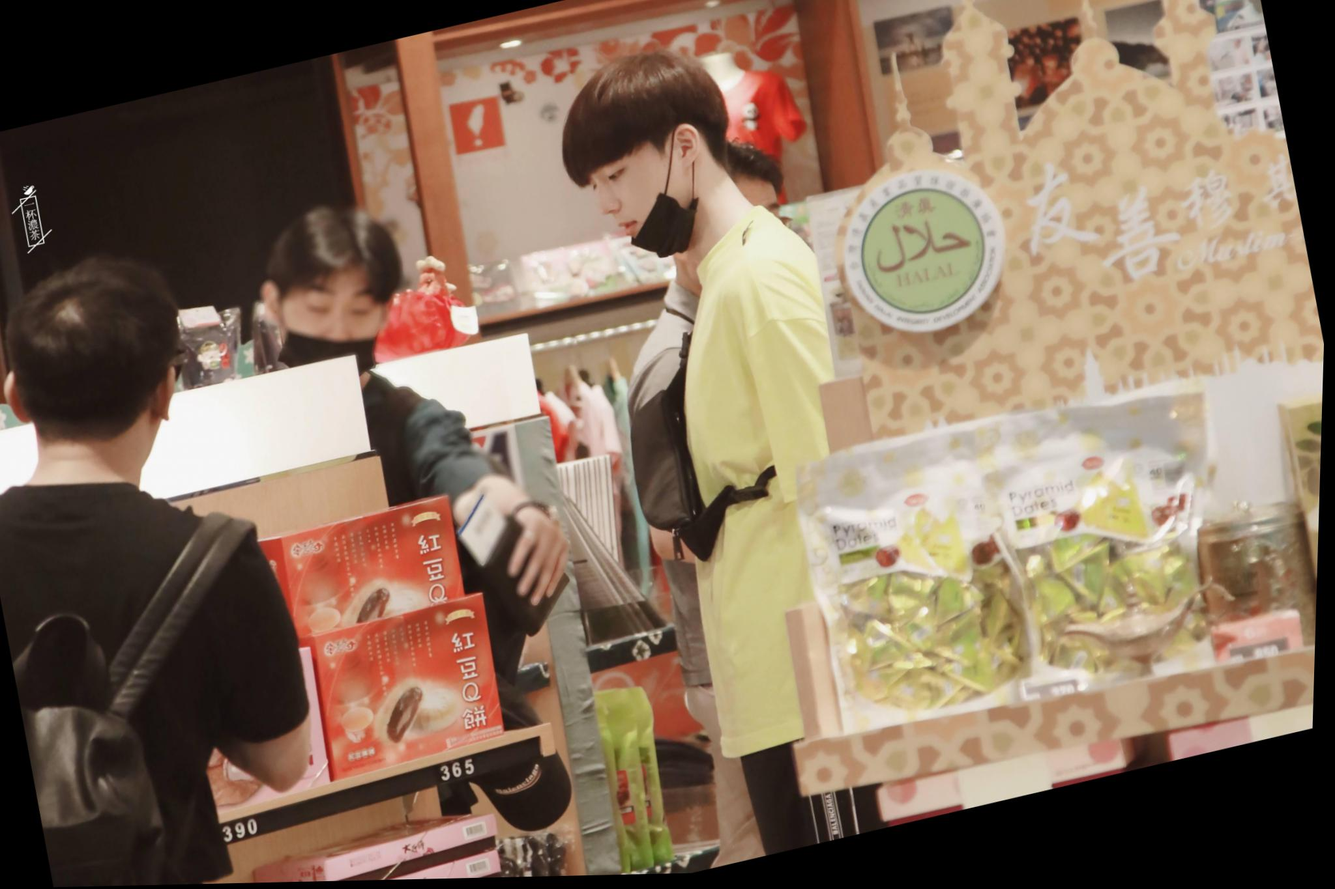WRONG: (581, 133, 693, 274), (273, 273, 397, 398)
